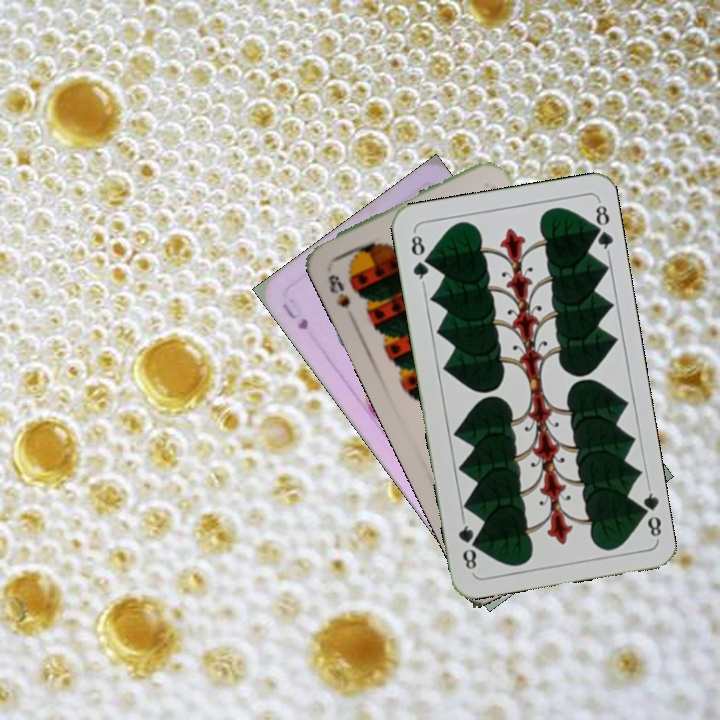G8: (633, 483, 664, 542), (407, 228, 432, 287)
S8: (324, 270, 353, 311)
SU: (278, 299, 311, 333)
